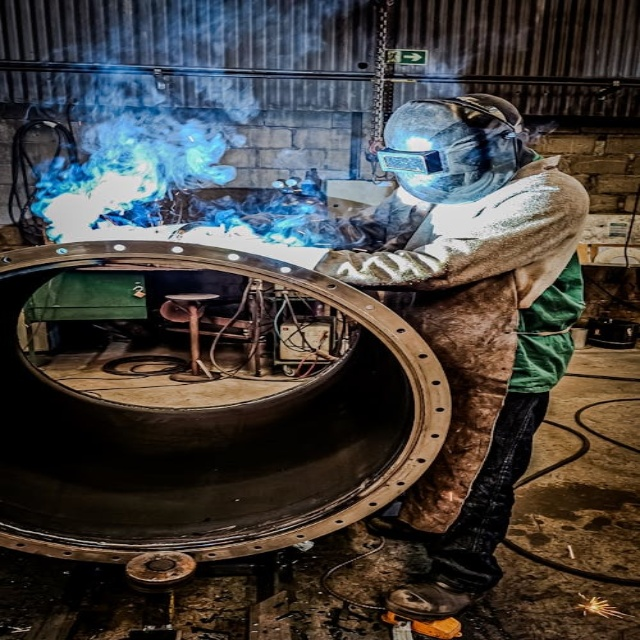Guantes: (179, 216, 332, 277)
